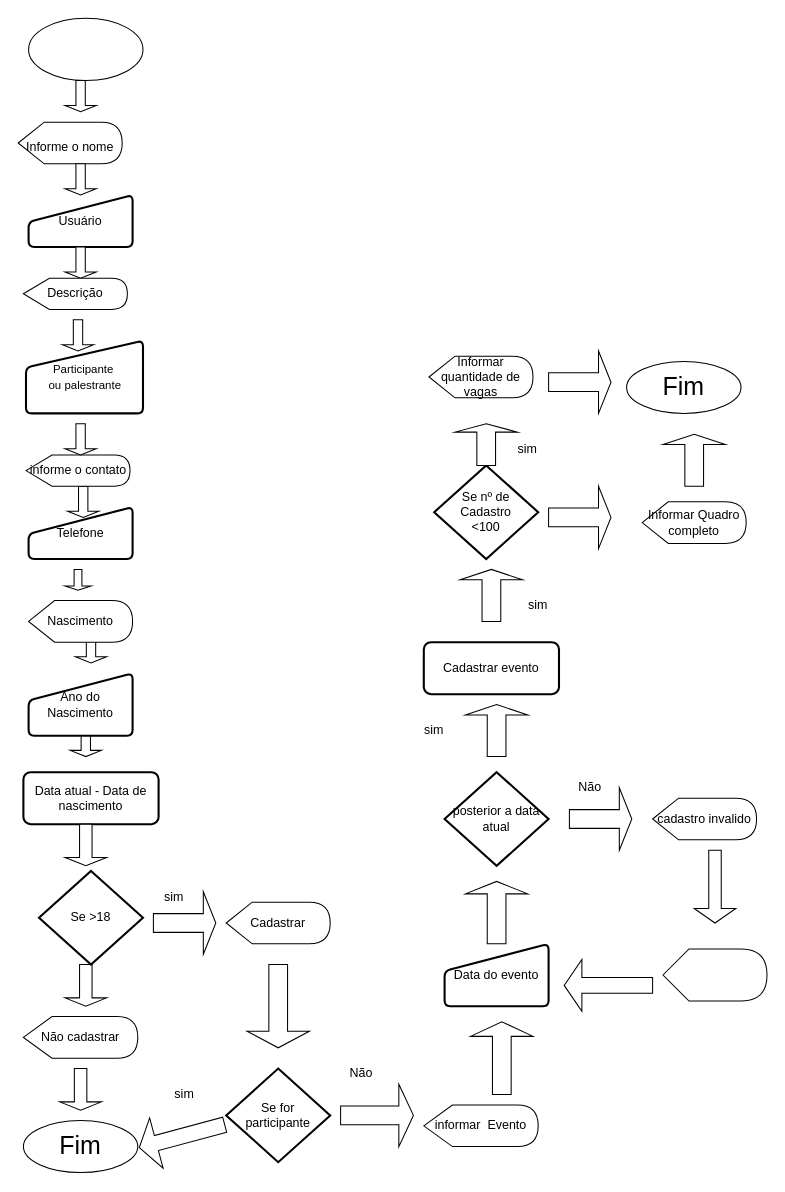
Image size: 785x1192. Some labels were removed from this diagram. Each missing label, with the centre of its shape:
Início: the point at 85,49
trocar data: the point at 714,974
